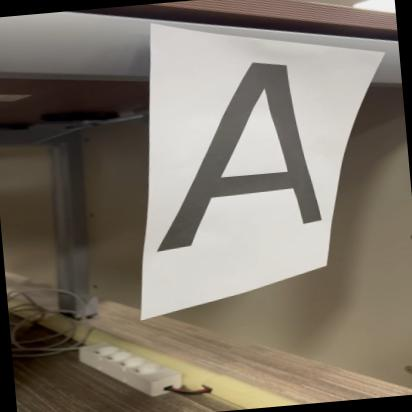seat: (146, 53, 336, 254)
